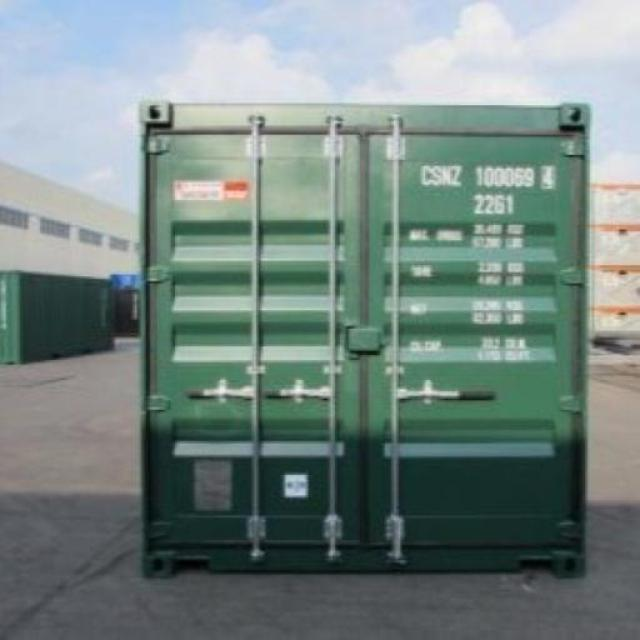ISO: (472, 195, 514, 218)
container_number: (419, 164, 558, 189)
